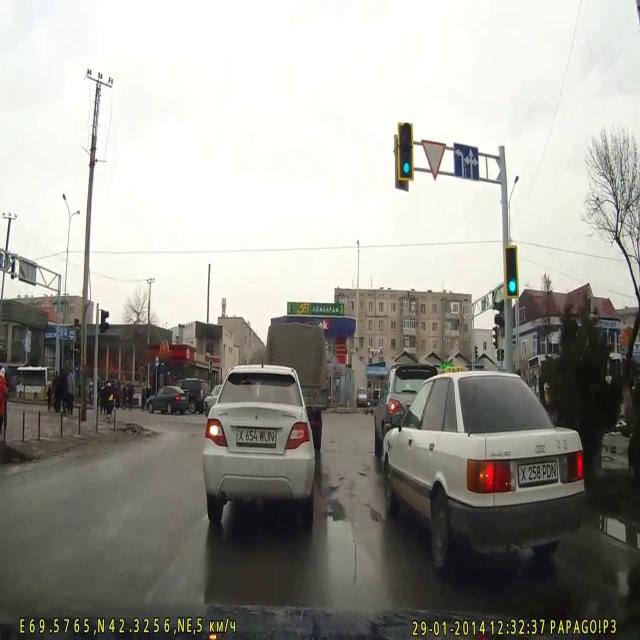car: (381, 369, 585, 574), (202, 362, 316, 529)
license: (516, 460, 558, 486), (235, 426, 277, 447)
